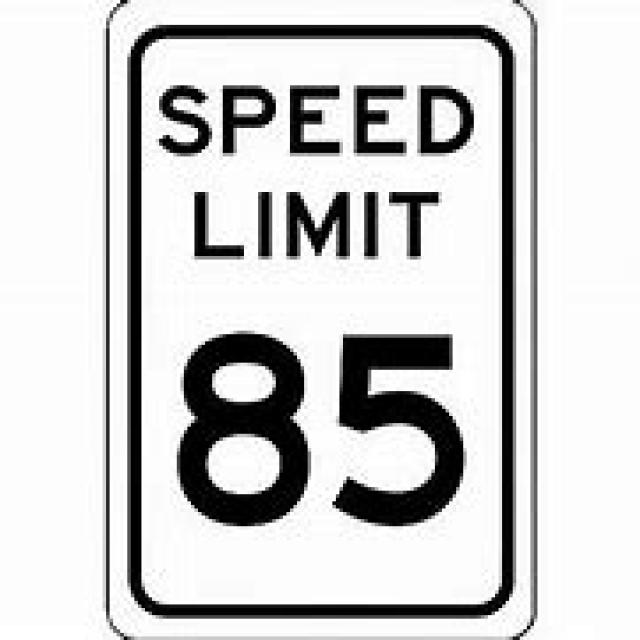speedLimit85: (104, 7, 536, 633)
